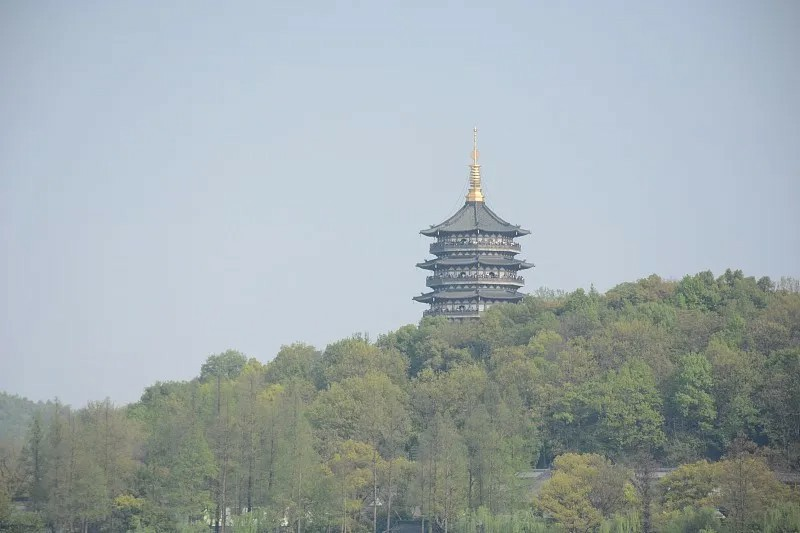Leifeng: (409, 124, 536, 331)
